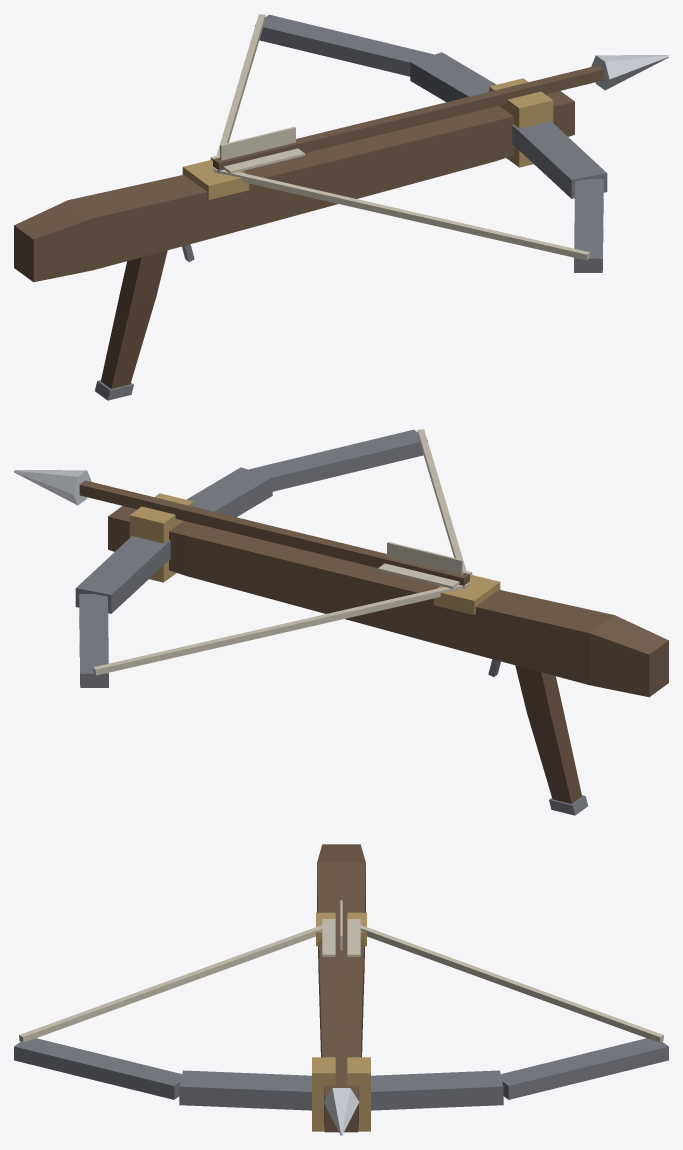
Rendered from hand_crossbow.glb.
The picture shows the model from 3 angles, top to bottom: view 1: azimuth 30°, elevation 25°; view 2: azimuth 150°, elevation 25°; view 3: azimuth 270°, elevation 25°; orthographic projection.
Parts seen in each view (by area): view 1: hand_crossbow; view 2: hand_crossbow; view 3: hand_crossbow.
Boxes of the visible parts, x1=… form: hand_crossbow: x1=14, y1=14, x2=668, y2=400; hand_crossbow: x1=14, y1=429, x2=668, y2=815; hand_crossbow: x1=14, y1=844, x2=668, y2=1135.
Size of the model in its own units: 0.57 by 0.187 by 0.5111.
